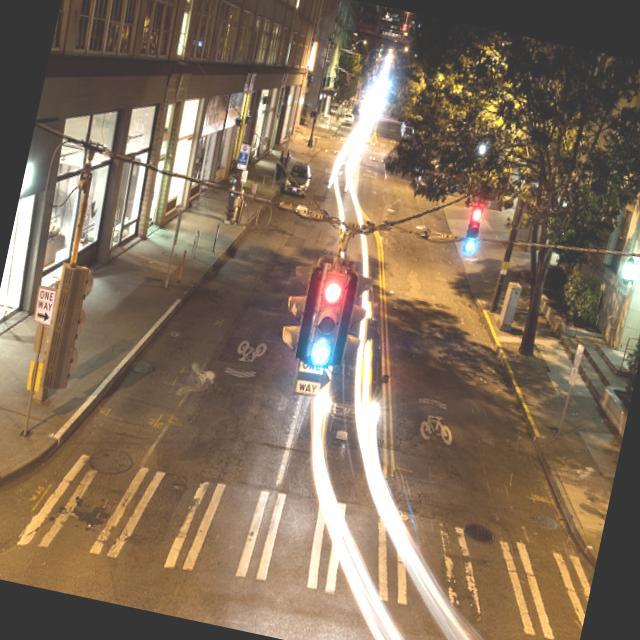Vehicle: (301, 357, 389, 450), (283, 159, 313, 196), (342, 113, 354, 127), (354, 107, 364, 120)
